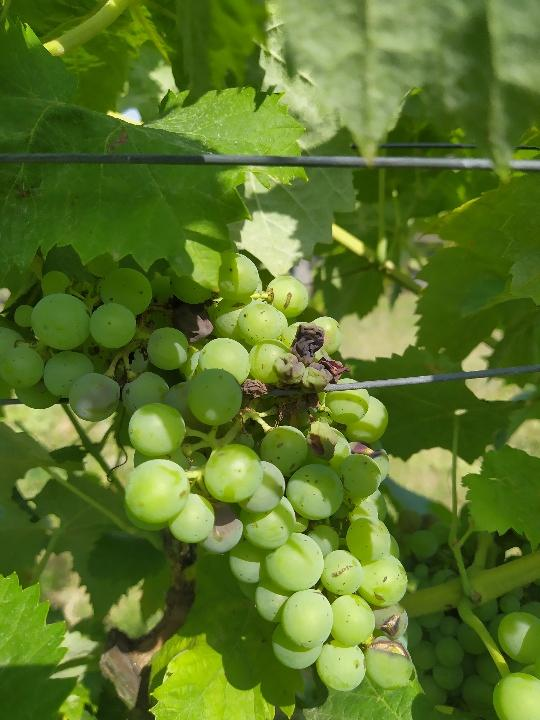grape: (4, 254, 417, 694)
